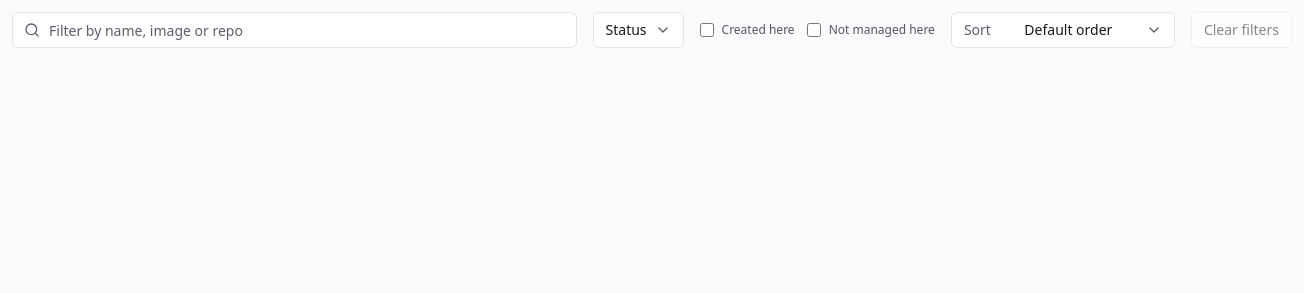
Test: ContainerFilterBar › the sort control › offers every order the URL can carry, in one control
Click the dropdown labelled "Sort Default order" at point(1063, 30), box [951, 12, 1175, 48]
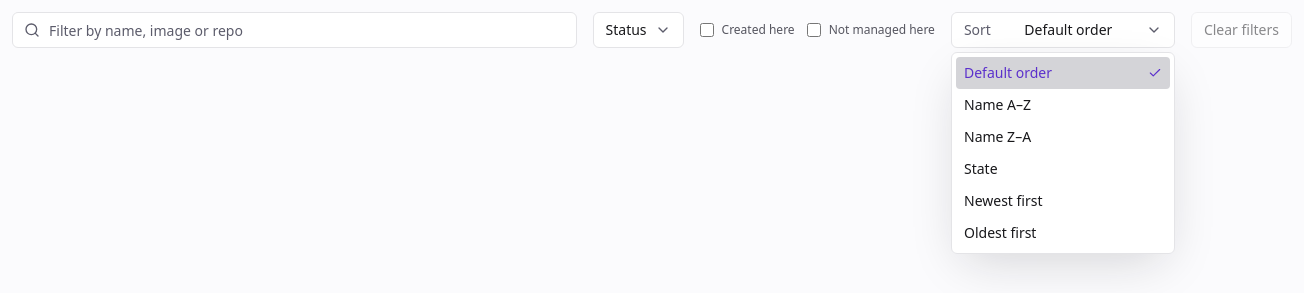
Expected: the options read "Default order", "Name A–Z", "Name Z–A", "State", "Newest first", "Oldest first", in this order, [956, 57, 1170, 89]; [964, 95, 1031, 114]; [964, 127, 1031, 146]; [964, 159, 998, 178]; [964, 191, 1042, 210]; [964, 223, 1036, 242]
